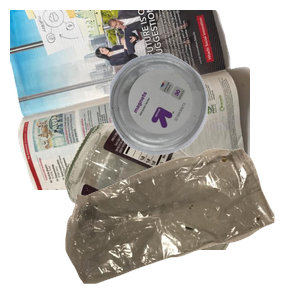glass: (62, 120, 300, 300)
paper: (10, 10, 250, 190)
plastic: (107, 51, 300, 199)
trash: (63, 145, 300, 300)
